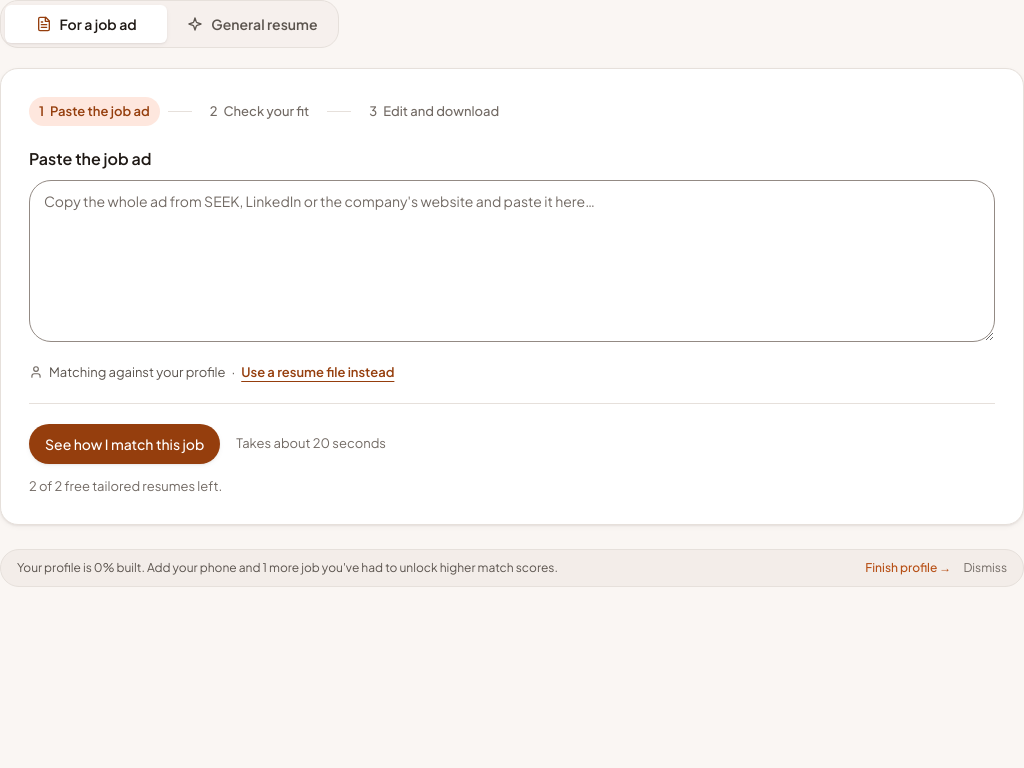
Scenario: ResumeGate start-mode choice › what a general resume starts from › defaults to the profile when it's complete
Click the button "General resume" at (252, 24), box [171,5,334,43]
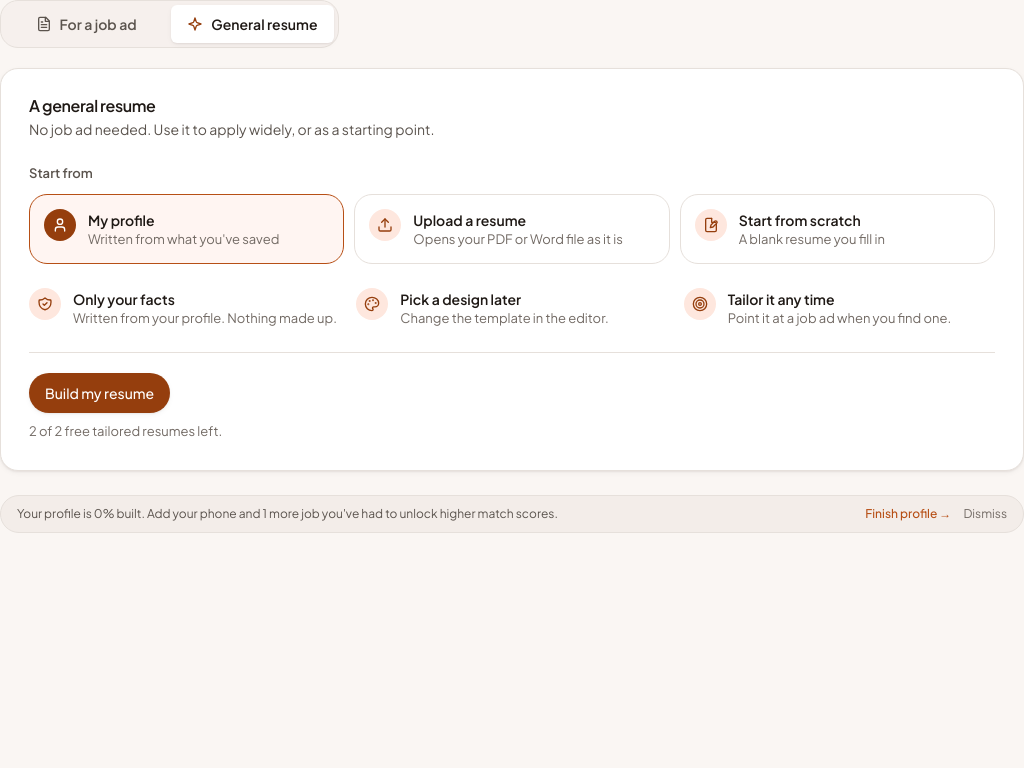
Expected: the radio button labelled "My profile Written from what you've saved" is checked, [29,194,344,264]
